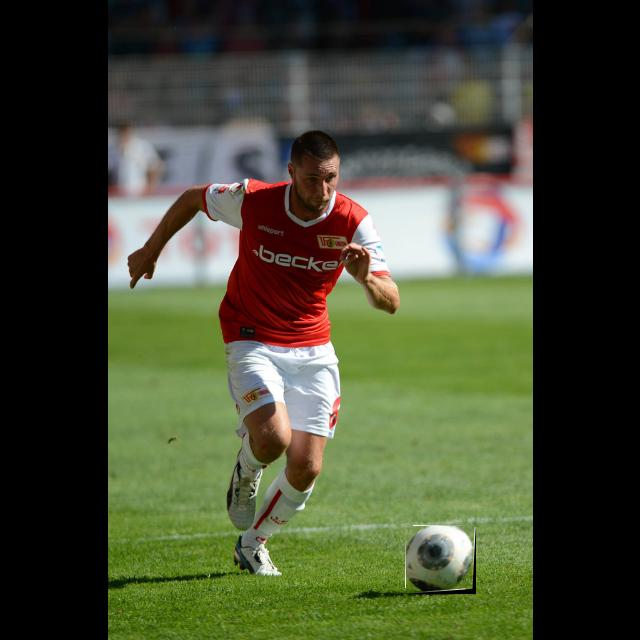Football: (406, 526, 476, 594)
